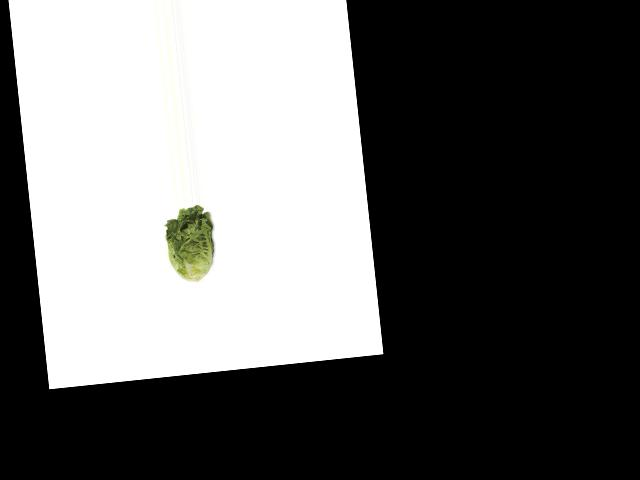lettuce: (158, 205, 221, 285)
